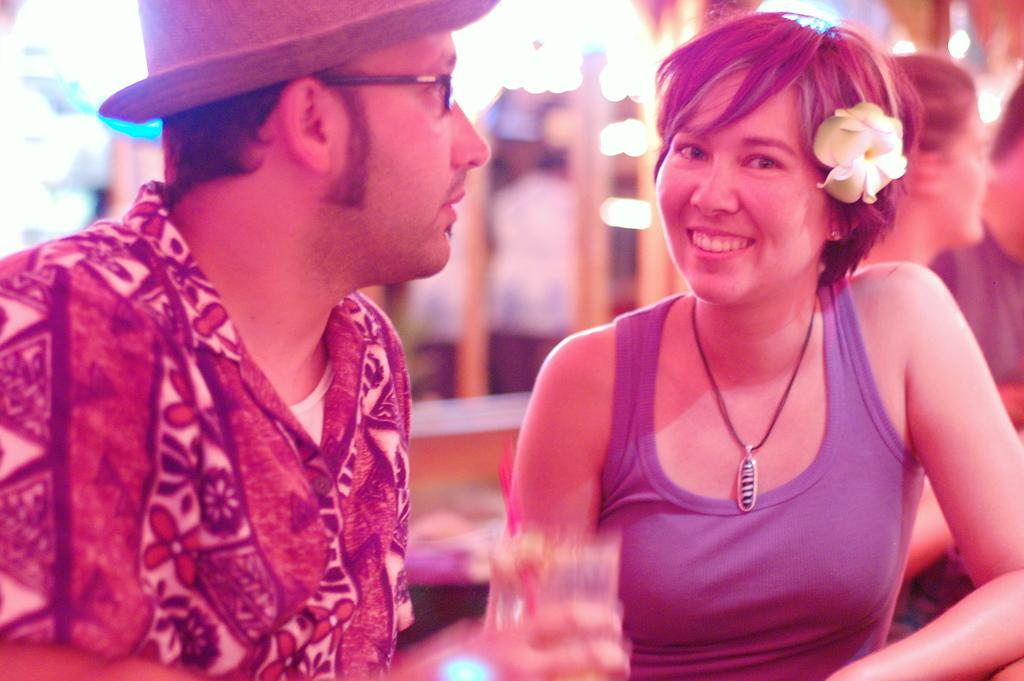Hat: (94, 0, 498, 137)
